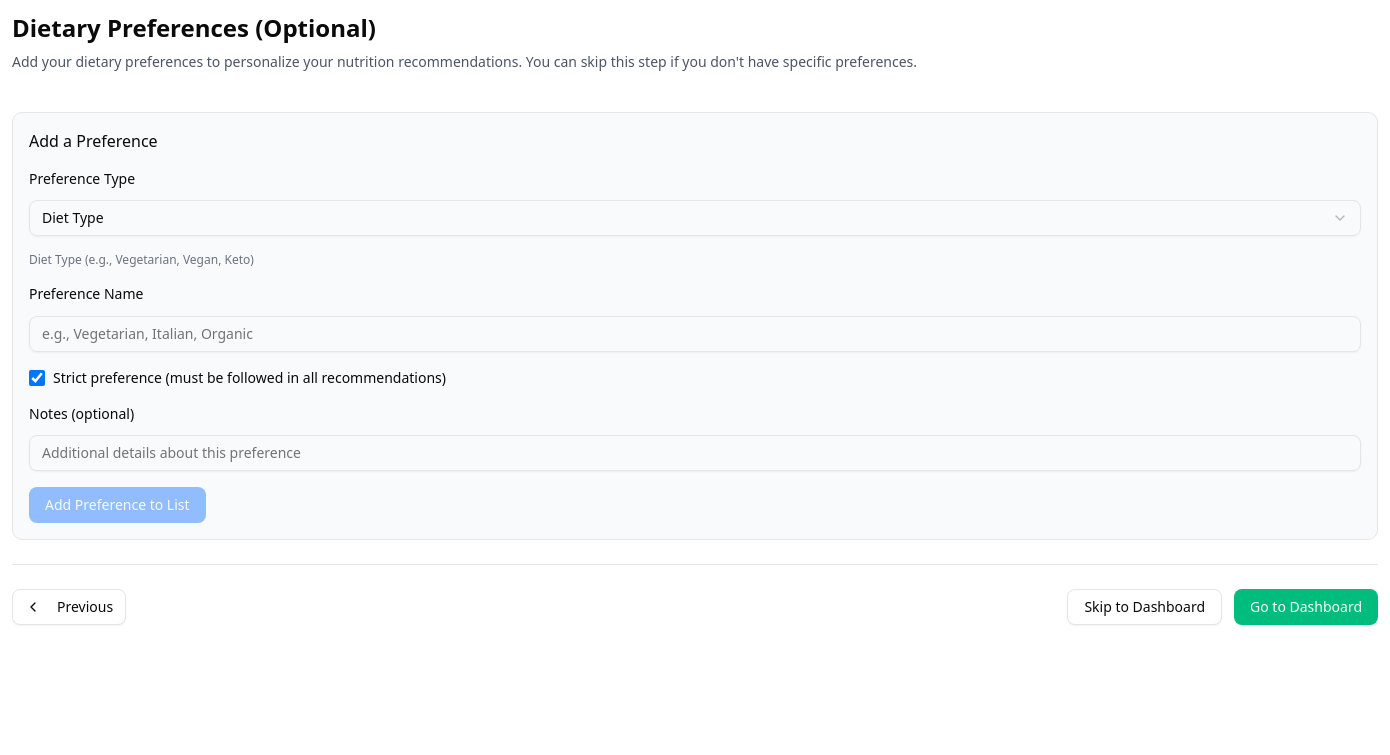
Scenario: Step3PreferencesForm › allows removing a preference from the list
Add a preference first
Type "Vegetarian" into the field with placeholder "e.g., Vegetarian, Italian, Organic".
click(695, 334); type("Vegetarian")  # box [29, 316, 1361, 352]
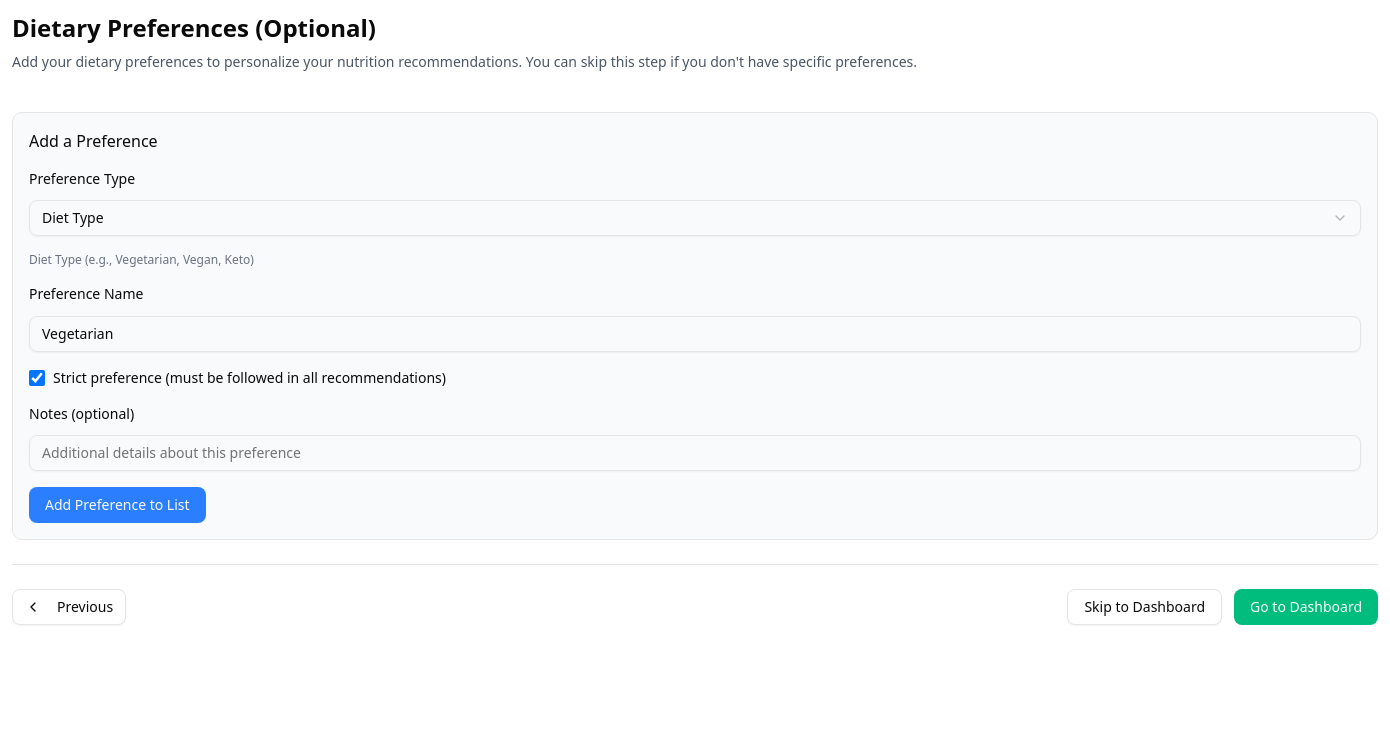
Click the button "Add Preference to List".
click(117, 505)  # box [29, 487, 206, 523]
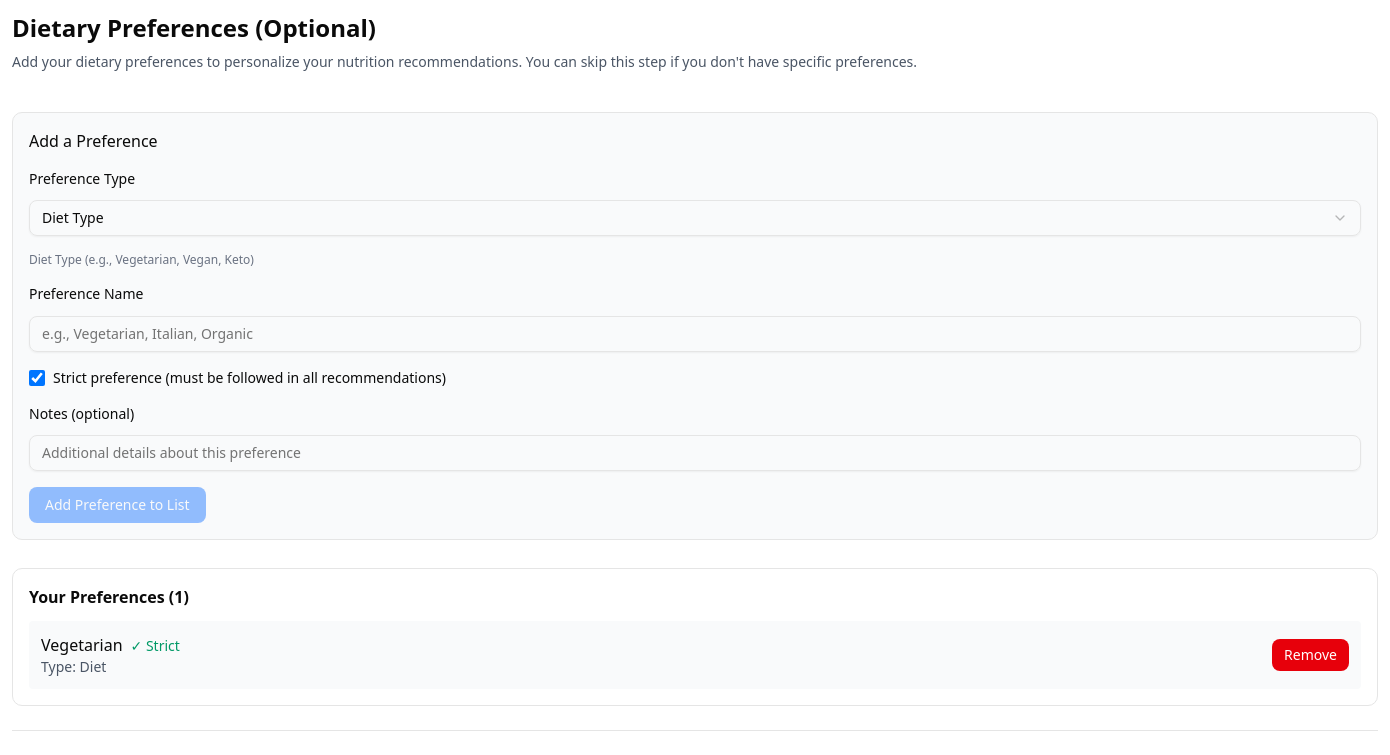
Expected: the heading "Your Preferences (1)" is shown, [29, 586, 189, 608]
Remove the preference
Click the button "Remove".
click(1311, 655)  # box [1272, 639, 1349, 671]
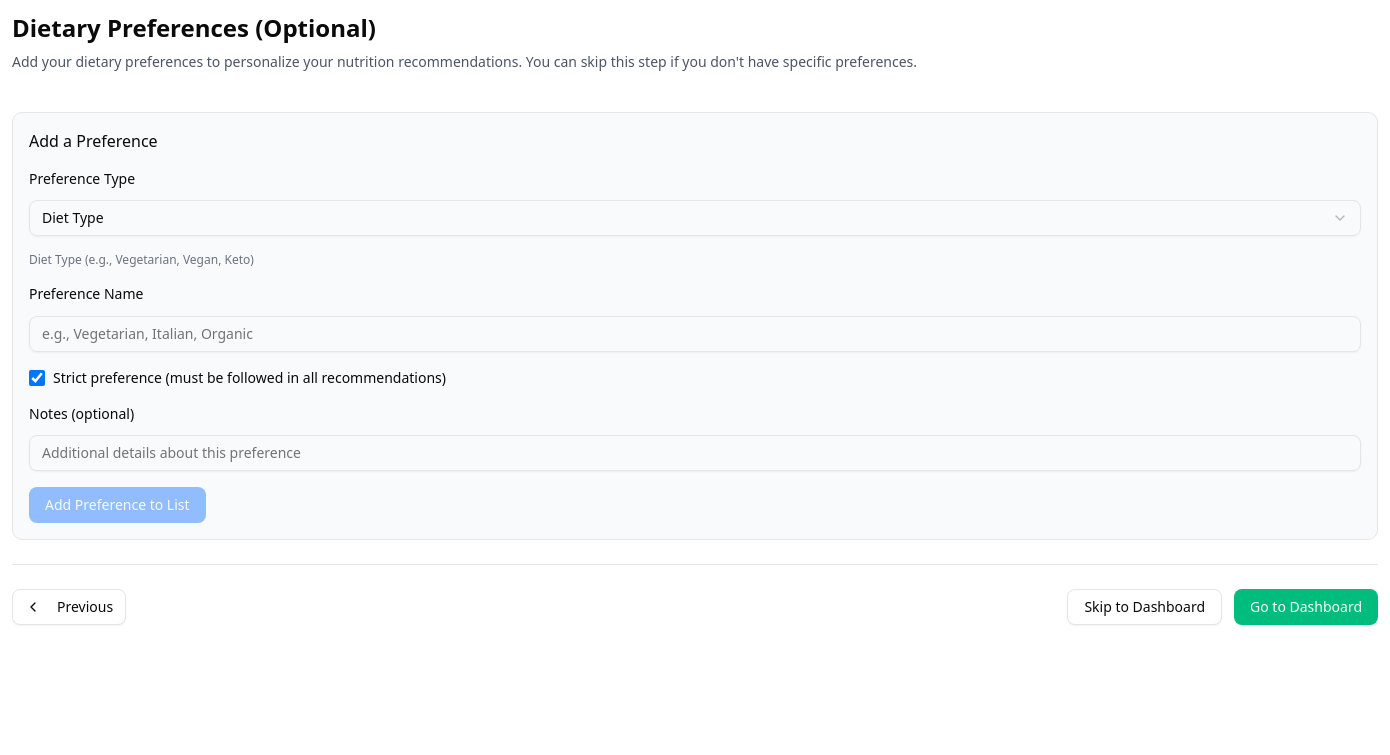
Expected: the heading "Your Preferences (1)" is gone
